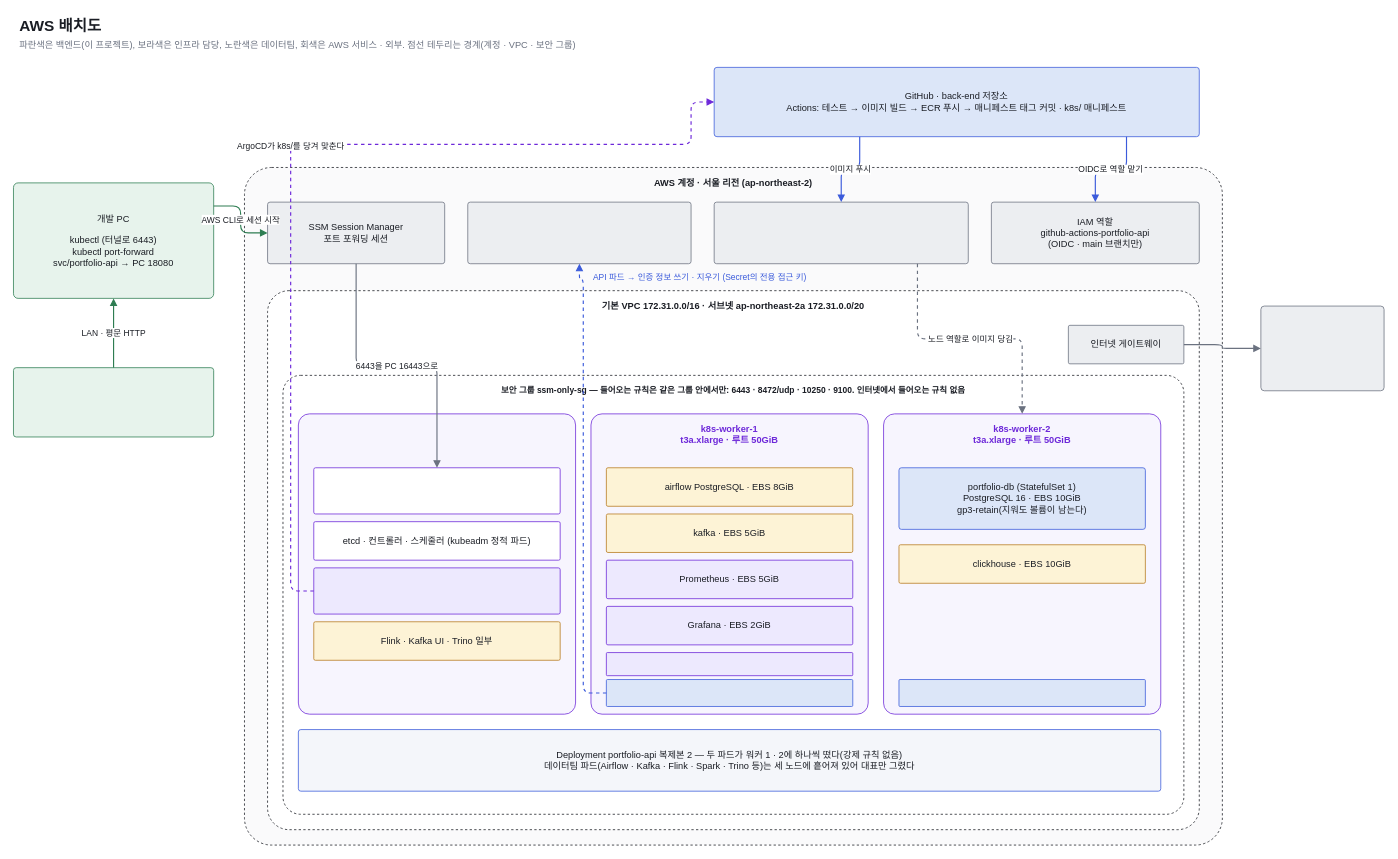
This 1398x859 diagram has some shape labels left out. The shapes that lost their labels are listed below. From the top down, each one's box as (x1, y1, x2, y2) in pixels, then its label:
(467, 201, 691, 264): SSM Parameter Store /stock-project/accounts/* 계좌 인증 정보
(713, 201, 968, 264): ECR (태그 덮어쓰기 금지) portfolio-api · dataeng-pipelines · airflow
(1260, 305, 1384, 391): 인터넷 한국투자증권 API Expo 푸시
(13, 367, 214, 437): 폰 (Expo 앱) 같은 네트워크에서 PC로 붙는다
(313, 467, 560, 514): 쿠버네티스 API 서버 :6443
(298, 413, 576, 714): k8s-control-plane t3a.xlarge · 루트 50GiB
(313, 567, 560, 614): ArgoCD 서버 · 저장소 서버 (동기화 컨트롤러는 워커 2)
(606, 652, 853, 676): ingress-nginx (NodePort 30278 · 32228)
(606, 679, 853, 706): portfolio-api 파드 1
(898, 679, 1145, 706): portfolio-api 파드 2
